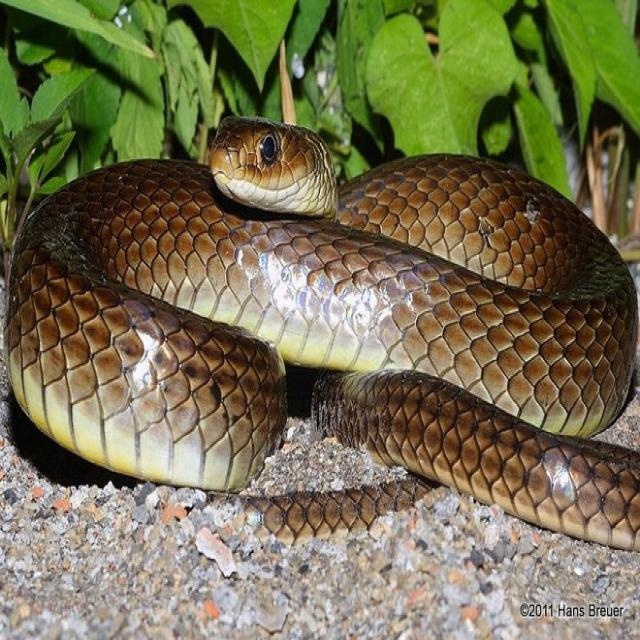Snake: (3, 112, 638, 553)
